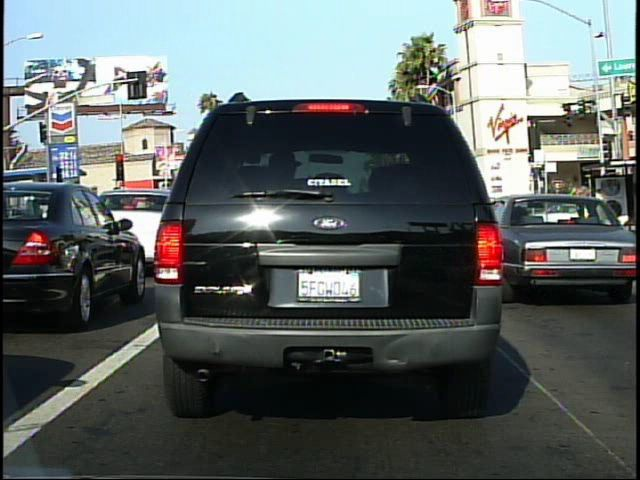person: (590, 183, 612, 250)
